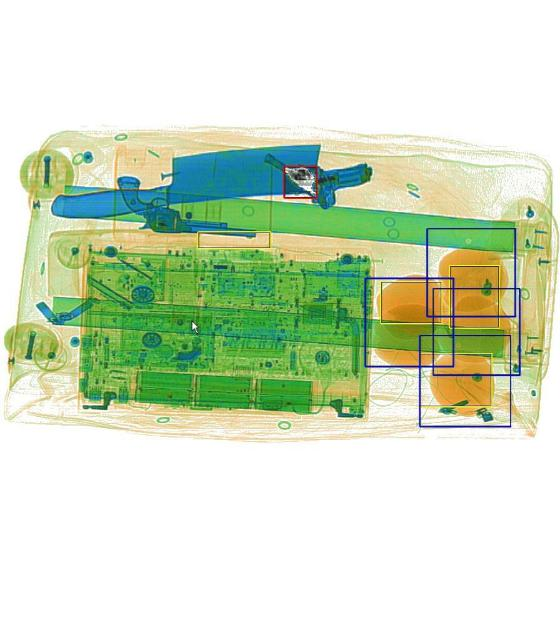Gun: (261, 108, 375, 222), (112, 175, 258, 241)
Knife: (45, 137, 325, 225)
